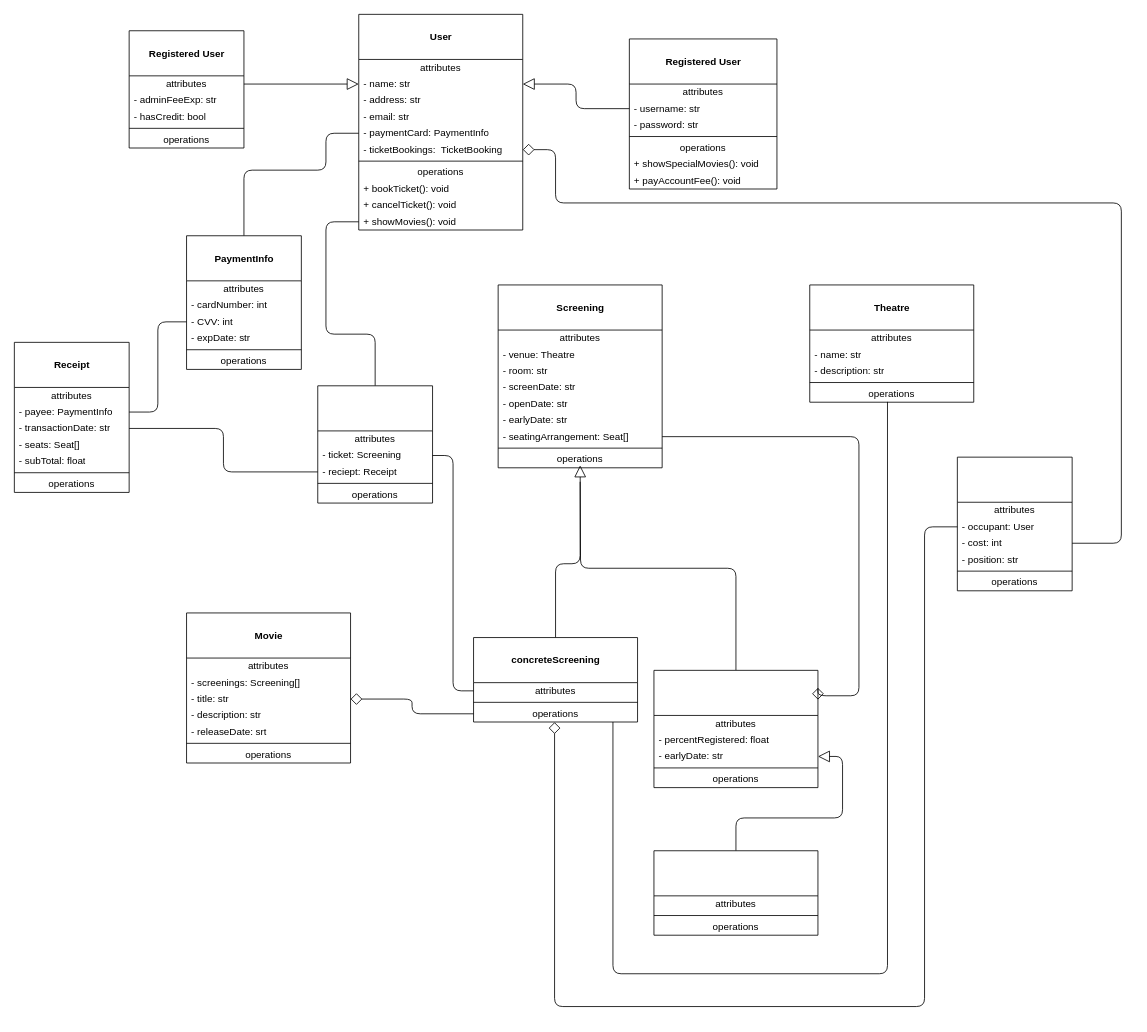
This 1147x1032 diagram has some shape labels left out. The box of each missing label's shape, as (x1, y1, x2, y2) in pixels:
ConcreteEarlyScreening: (653, 850, 818, 935)
EarlyScreening: (653, 670, 818, 788)
Seat: (957, 456, 1072, 591)
TicketBooking: (317, 385, 433, 503)
